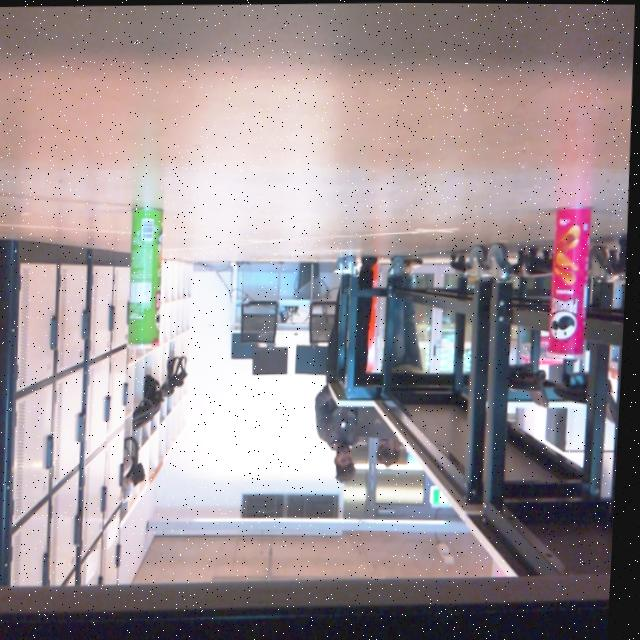greenpringles: (119, 178, 172, 359)
redpringles: (539, 197, 604, 370)
